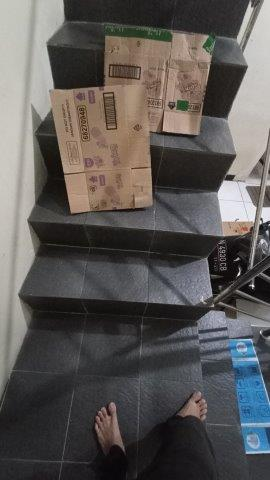kardus: (50, 87, 152, 212), (105, 27, 213, 135)
